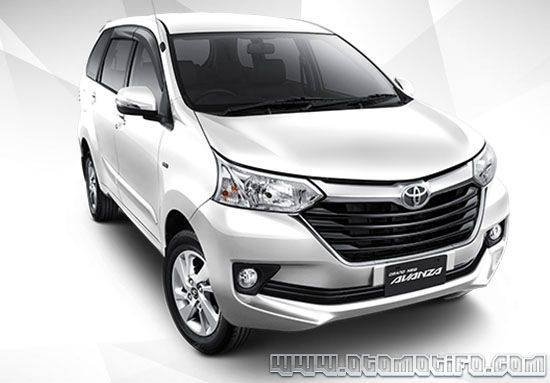mobil: (67, 10, 524, 353)
